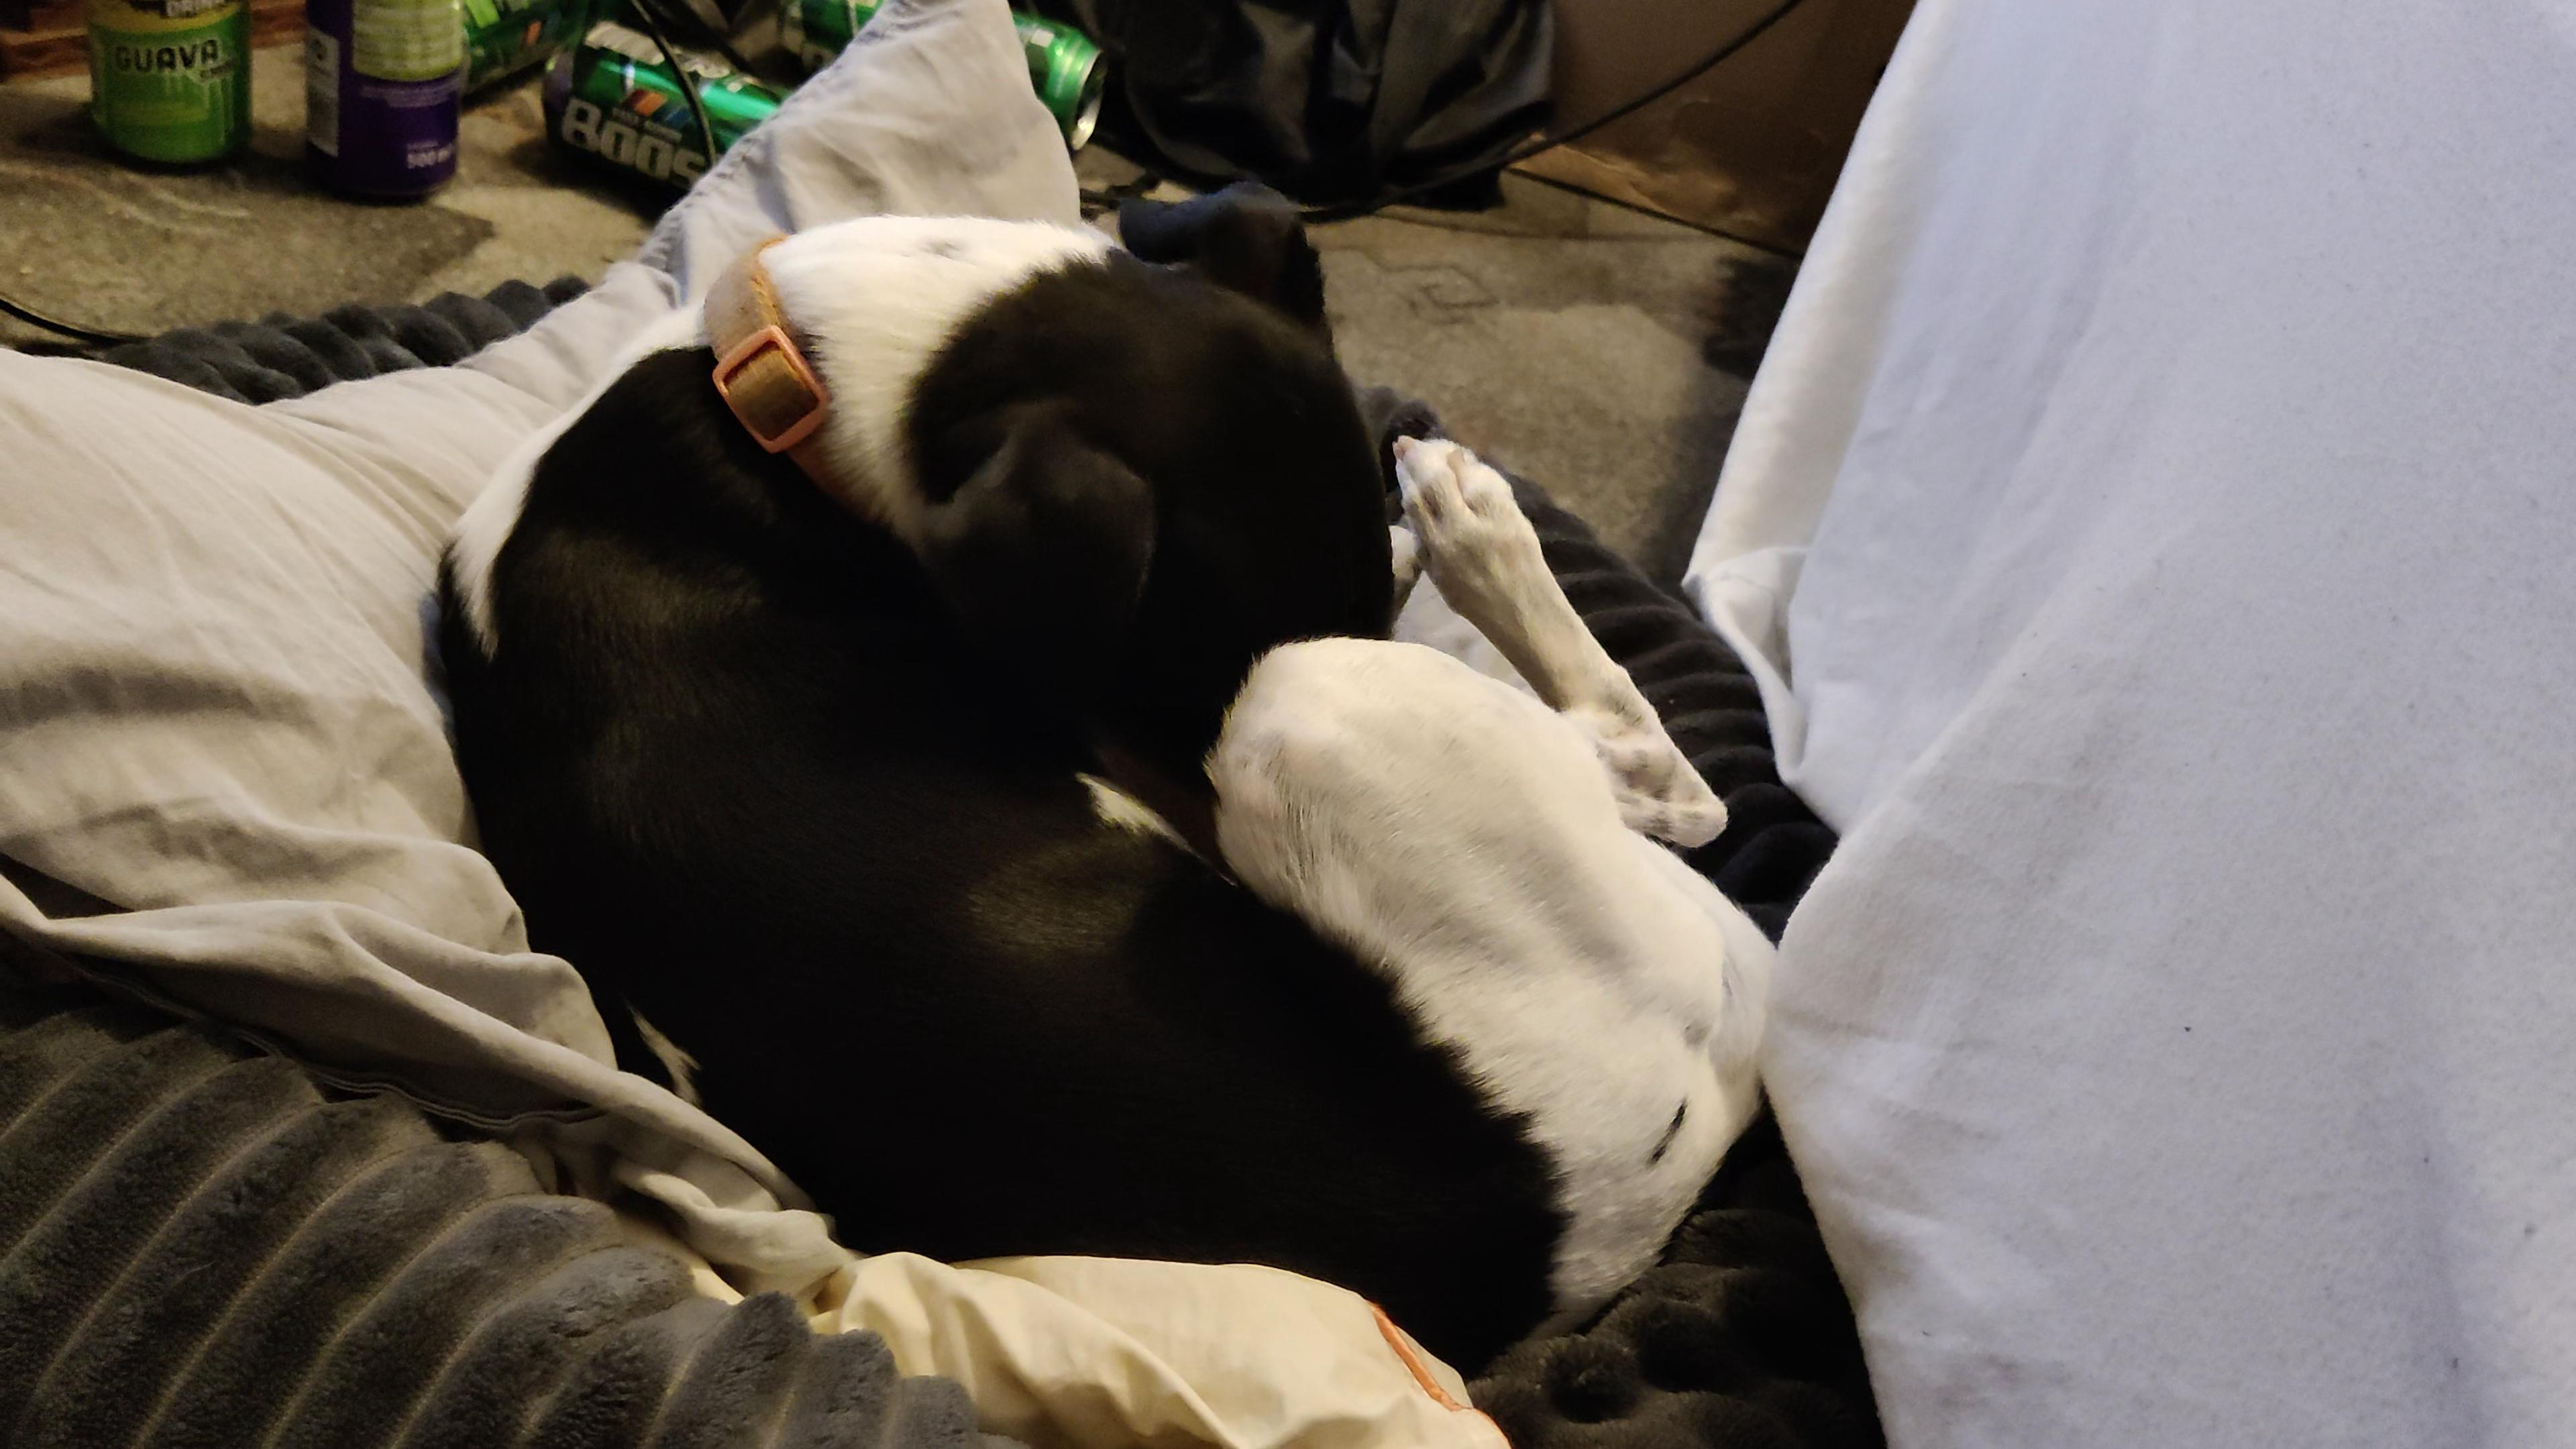Dog: (363, 133, 1831, 1410)
